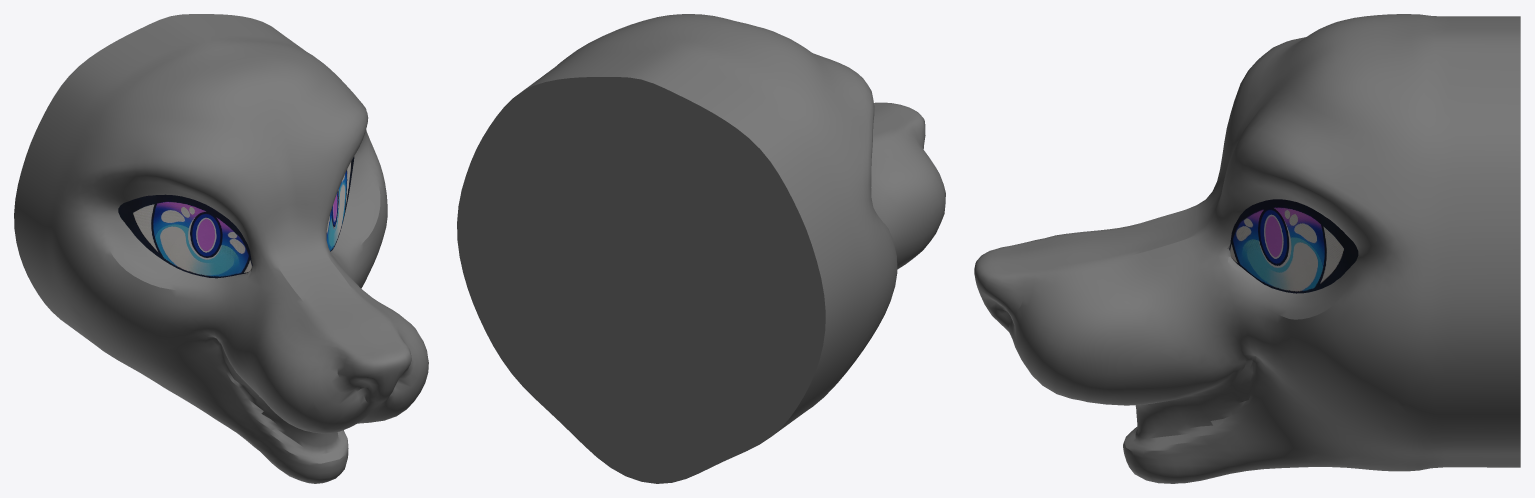
File: slim_canine.glb
3 views of the same model, side by side, from view 1: azimuth 30°, elevation 25°; view 2: azimuth 150°, elevation 25°; view 3: azimuth 270°, elevation 25° (orthographic). The views are drawn at different scales.
Visible parts, largest first — view 1: Retopo_SLIM_BASE.001, EYES.001; view 2: Retopo_SLIM_BASE.001; view 3: Retopo_SLIM_BASE.001, EYES.001.
Part boxes in pixels (box(x1,y1,x2,y2)): Retopo_SLIM_BASE.001: box(14, 14, 428, 483); EYES.001: box(118, 156, 354, 278); Retopo_SLIM_BASE.001: box(457, 14, 945, 483); Retopo_SLIM_BASE.001: box(974, 14, 1520, 483); EYES.001: box(1229, 199, 1358, 293).
Bounding box in the file's own units: 12.3 × 13.33 × 15.
2 materials, 1 textured.
